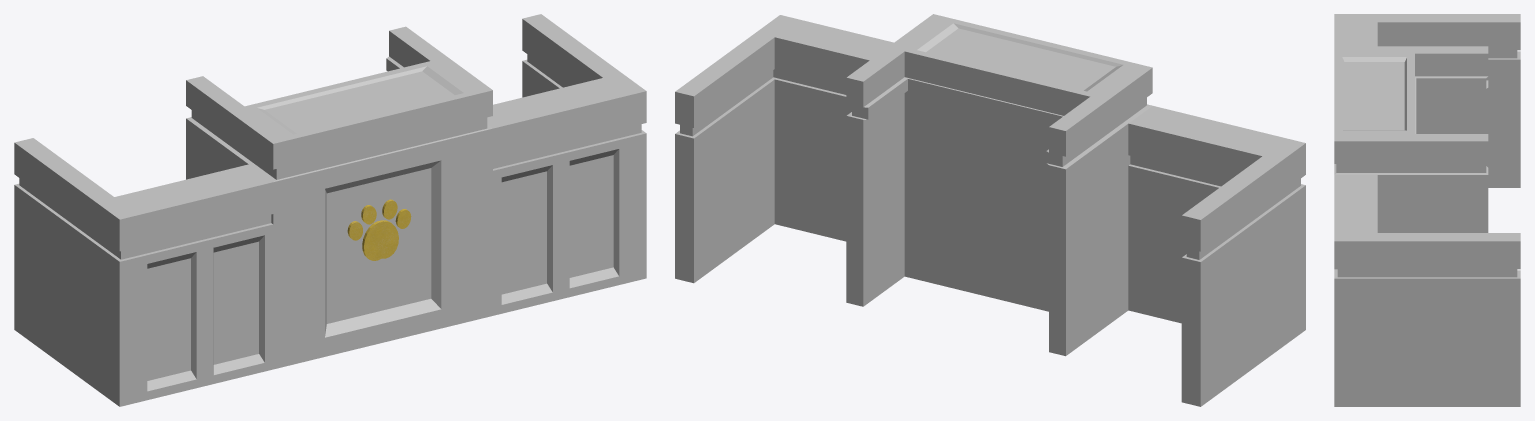
File: judgestand.fbx
The picture shows the model from 3 angles, left to right: view 1: azimuth 30°, elevation 25°; view 2: azimuth 150°, elevation 25°; view 3: azimuth 270°, elevation 25°; orthographic projection. The views are drawn at different scales.
Parts seen in each view (by area): view 1: pCube48; view 2: pCube48; view 3: pCube48.
Boxes of the visible parts, bbox=[...] form: pCube48: bbox=[14, 14, 646, 406]; pCube48: bbox=[675, 14, 1305, 406]; pCube48: bbox=[1334, 14, 1520, 406].
Bounding box in the file's own units: 6.28 × 2.57 × 2.17.
